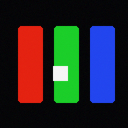1 square: (53, 66, 67, 80)
